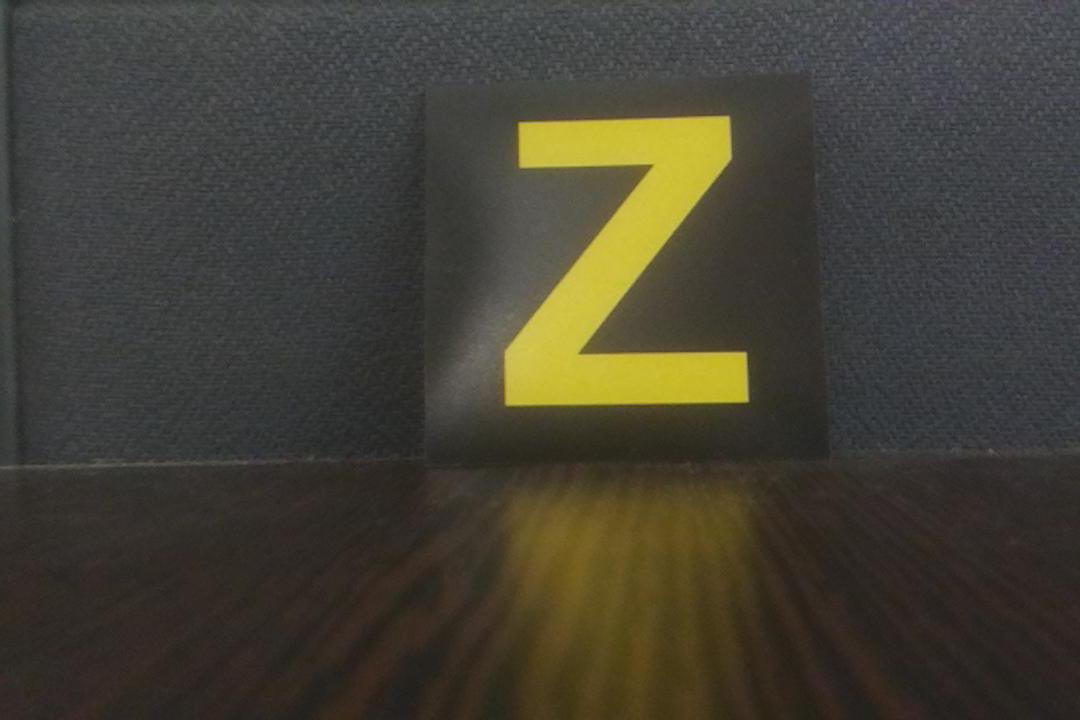alphabet_z: (426, 85, 821, 454)
